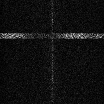wifi: (1, 32, 104, 38)
